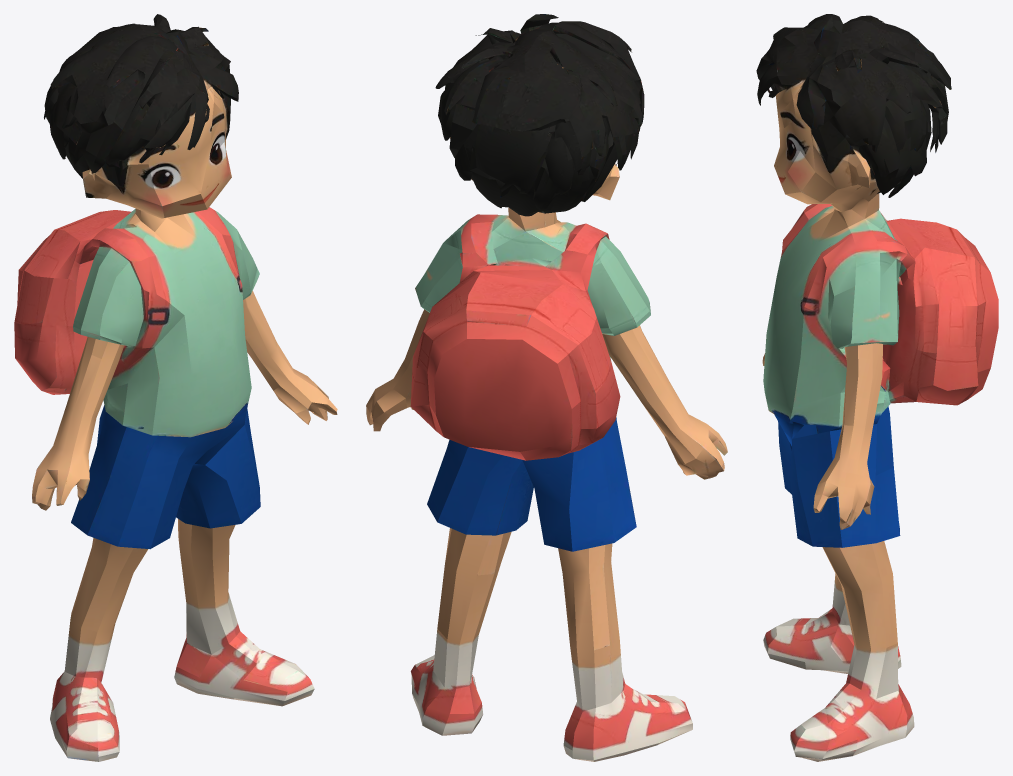
File: kenji.glb
3 renders of one model, left to right at view 1: azimuth 30°, elevation 25°; view 2: azimuth 150°, elevation 25°; view 3: azimuth 270°, elevation 25°, orthographic. The views are drawn at different scales.
Visible parts, largest first — view 1: Mesh0; view 2: Mesh0; view 3: Mesh0.
Boxes of the visible parts, <box> form: Mesh0: <box>14,14,337,761</box>; Mesh0: <box>366,14,727,761</box>; Mesh0: <box>756,14,998,761</box>.
Bounding box in the file's own units: 0.9239 × 1.89 × 0.6113.
Materials: 1 (1 with a texture image).
